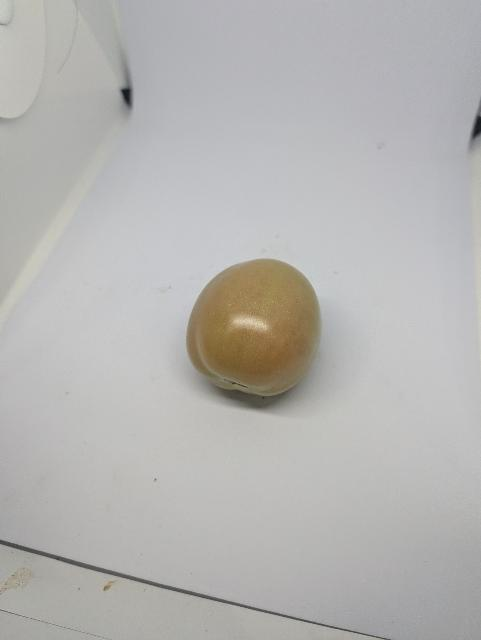breaker: (187, 259, 322, 396)
